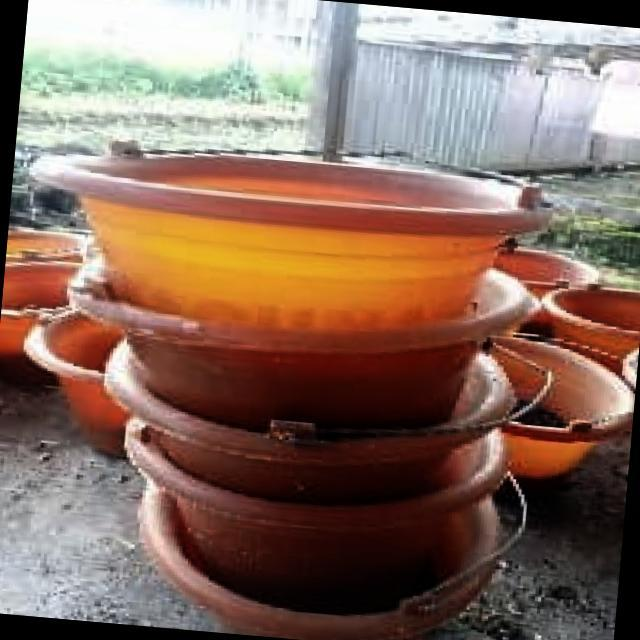HDPE Plastic: (27, 130, 552, 336), (67, 258, 545, 438), (97, 348, 534, 484), (128, 481, 514, 632), (498, 345, 634, 492), (20, 296, 116, 430), (542, 280, 639, 360), (0, 268, 78, 358), (492, 241, 602, 301), (0, 215, 85, 271)
